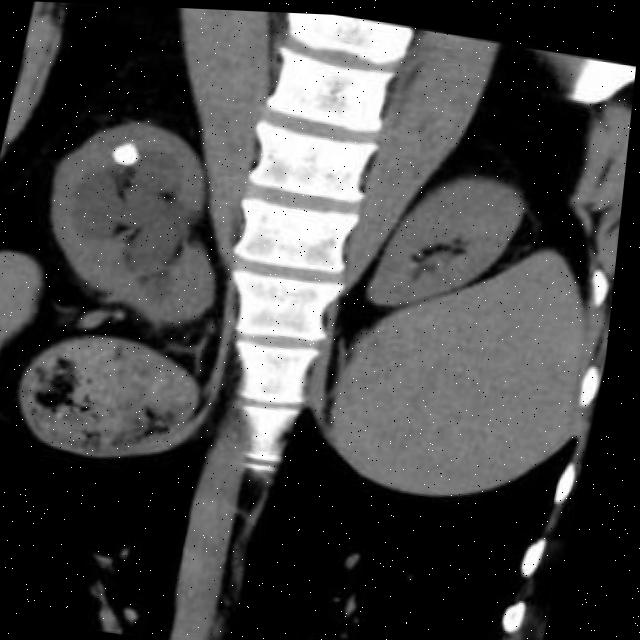Tas_Var: (113, 136, 147, 171)
